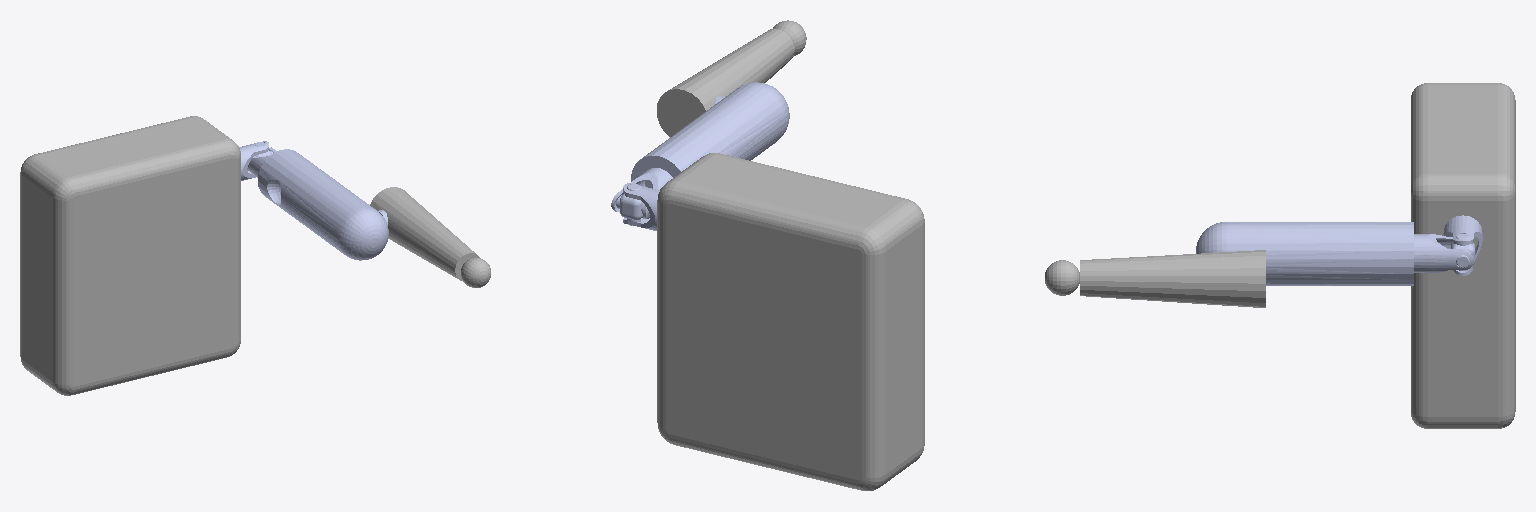
The robot description file, URDF, robot "humanV2":
<?xml version="1.0" encoding="utf-8"?>
<!-- This URDF was automatically created by SolidWorks to URDF Exporter! Originally created by [author] ([email redacted]) 
     Commit Version: 1.6.0-1-g15f4949  Build Version: 1.6.7594.29634
     For more information, please see http://wiki.ros.org/sw_urdf_exporter -->
<robot
  name="humanV2">
  <link
    name="base_link">
    <inertial>
      <origin
        xyz="0.0002987 0 0.20019"
        rpy="0 0 0" />
      <mass
        value="21.148" />
      <inertia
        ixx="0.31372"
        ixy="-6.6938E-18"
        ixz="-0.00075664"
        iyy="0.49862"
        iyz="-5.7126E-10"
        izz="0.26189" />
    </inertial>
    <visual>
      <origin
        xyz="0 0 0"
        rpy="0 0 0" />
      <geometry>
        <mesh
          filename="package://humanV2/meshes/base_link.STL" />
      </geometry>
      <material
        name="">
        <color
          rgba="0.74902 0.74902 0.74902 1" />
      </material>
    </visual>
    <collision>
      <origin
        xyz="0 0 0"
        rpy="0 0 0" />
      <geometry>
        <mesh
          filename="package://humanV2/meshes/base_link.STL" />
      </geometry>
    </collision>
  </link>
  <link
    name="Shoulder_Link">
    <inertial>
      <origin
        xyz="0.028934 -3.3332E-07 4.0773E-07"
        rpy="0 0 0" />
      <mass
        value="0.039246" />
      <inertia
        ixx="2.5628E-05"
        ixy="4.8361E-10"
        ixz="-6.0372E-10"
        iyy="3.3171E-05"
        iyz="-1.2792E-09"
        izz="2.6396E-05" />
    </inertial>
    <visual>
      <origin
        xyz="0 0 0"
        rpy="0 0 0" />
      <geometry>
        <mesh
          filename="package://humanV2/meshes/Shoulder_Link.STL" />
      </geometry>
      <material
        name="">
        <color
          rgba="0.79216 0.81961 0.93333 1" />
      </material>
    </visual>
    <collision>
      <origin
        xyz="0 0 0"
        rpy="0 0 0" />
      <geometry>
        <mesh
          filename="package://humanV2/meshes/Shoulder_Link.STL" />
      </geometry>
    </collision>
  </link>
  <joint
    name="shoulder_Joint"
    type="continuous">
    <origin
      xyz="0.18 0 0.32"
      rpy="0 0 0" />
    <parent
      link="base_link" />
    <child
      link="Shoulder_Link" />
    <axis
      xyz="1 0 0" />
  </joint>
  <link
    name="Arm_Link">
    <inertial>
      <origin
        xyz="0.001504 -0.21367 2.1137E-05"
        rpy="0 0 0" />
      <mass
        value="2.065" />
      <inertia
        ixx="0.015833"
        ixy="0.00012729"
        ixz="-2.4985E-07"
        iyy="0.0021521"
        iyz="1.4532E-06"
        izz="0.015925" />
    </inertial>
    <visual>
      <origin
        xyz="0 0 0"
        rpy="0 0 0" />
      <geometry>
        <mesh
          filename="package://humanV2/meshes/Arm_Link.STL" />
      </geometry>
      <material
        name="">
        <color
          rgba="0.79216 0.81961 0.93333 1" />
      </material>
    </visual>
    <collision>
      <origin
        xyz="0 0 0"
        rpy="0 0 0" />
      <geometry>
        <mesh
          filename="package://humanV2/meshes/Arm_Link.STL" />
      </geometry>
    </collision>
  </link>
  <joint
    name="Arm_Joint"
    type="continuous">
    <origin
      xyz="0.07 0 0"
      rpy="0 0 0" />
    <parent
      link="Shoulder_Link" />
    <child
      link="Arm_Link" />
    <axis
      xyz="0 7.9554E-05 1" />
  </joint>
  <link
    name="Forearm_Link">
    <inertial>
      <origin
        xyz="0.043007 -0.087026 0.00061887"
        rpy="0 0 0" />
      <mass
        value="1.0081" />
      <inertia
        ixx="0.0075453"
        ixy="-8.0779E-05"
        ixz="5.269E-07"
        iyy="0.00059467"
        iyz="3.9526E-05"
        izz="0.0075218" />
    </inertial>
    <visual>
      <origin
        xyz="0 0 0"
        rpy="0 0 0" />
      <geometry>
        <mesh
          filename="package://humanV2/meshes/Forearm_Link.STL" />
      </geometry>
      <material
        name="">
        <color
          rgba="0.74902 0.74902 0.74902 1" />
      </material>
    </visual>
    <collision>
      <origin
        xyz="0 0 0"
        rpy="0 0 0" />
      <geometry>
        <mesh
          filename="package://humanV2/meshes/Forearm_Link.STL" />
      </geometry>
    </collision>
  </link>
  <joint
    name="Forearm_Joint"
    type="continuous">
    <origin
      xyz="0.043395 -0.322 0.00014624"
      rpy="0 0 0" />
    <parent
      link="Arm_Link" />
    <child
      link="Forearm_Link" />
    <axis
      xyz="-1 2.0809E-05 -0.0027793" />
  </joint>
</robot>

--- Render facts (derived) ---
3 views of the same robot in one strip: view 1: azimuth 30°, elevation 25°; view 2: azimuth 150°, elevation 25°; view 3: azimuth 270°, elevation 25° (orthographic).
Model humanV2 with 4 links and 3 joints (3 continuous), rooted at base_link, posed all joints at 0.
Links seen in each view (by area): view 1: base_link, Arm_Link, Forearm_Link; view 2: base_link, Arm_Link, Forearm_Link, Shoulder_Link; view 3: base_link, Arm_Link, Forearm_Link, Shoulder_Link.
Link boxes in pixels (left/top/right/bottom): base_link: left=20, top=116, right=240, bottom=395; Arm_Link: left=247, top=142, right=388, bottom=260; Forearm_Link: left=370, top=187, right=490, bottom=287; base_link: left=657, top=153, right=924, bottom=490; Arm_Link: left=611, top=82, right=789, bottom=225; Forearm_Link: left=657, top=20, right=806, bottom=136; Shoulder_Link: left=623, top=183, right=659, bottom=230; base_link: left=1411, top=83, right=1515, bottom=428; Arm_Link: left=1196, top=222, right=1474, bottom=285; Forearm_Link: left=1045, top=250, right=1265, bottom=307; Shoulder_Link: left=1443, top=215, right=1482, bottom=275.
Size in the robot's own frame: 0.5574 by 0.6733 by 0.4 metres.
4 mesh visuals loaded from 4 distinct referenced files (4 binary STL).